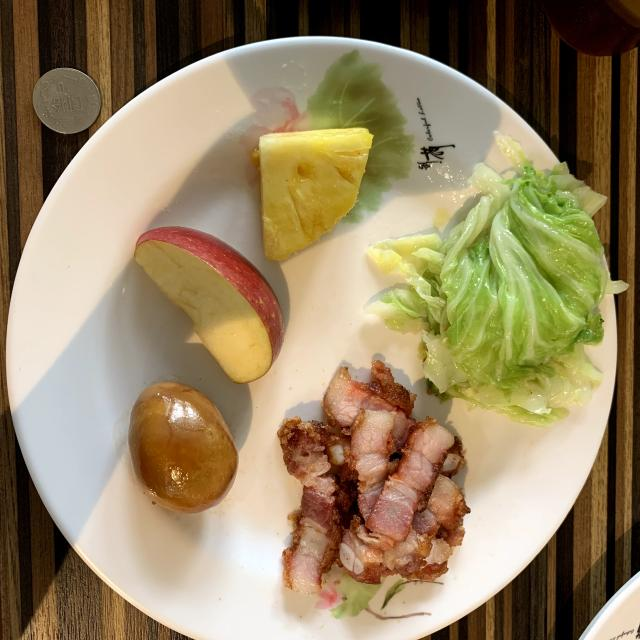apple -sliced-: (135, 226, 284, 382)
cabbage: (369, 135, 626, 426)
coin: (32, 68, 101, 134)
pineapple: (259, 128, 372, 260)
red grilled pork: (278, 361, 470, 595)
soy egg: (129, 382, 238, 512)
